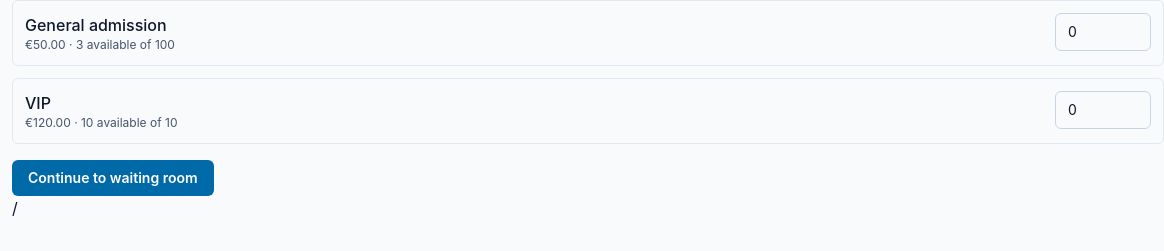
Test case: ticket selection validation › refuses a blank quantity
Clear the number field labelled "General admission": (1103, 32) [1055, 13, 1151, 51]
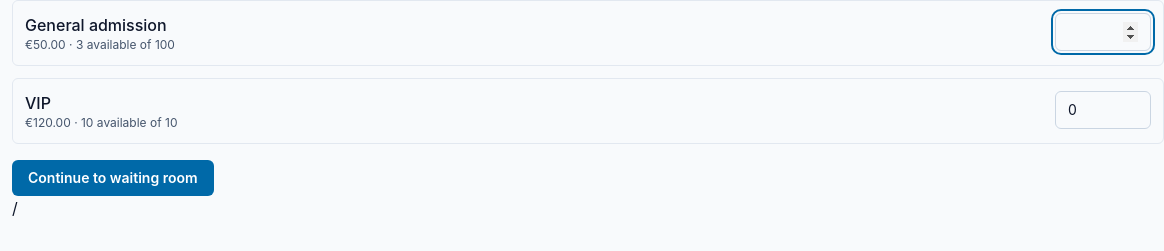
Click the button "Continue to waiting room": (113, 178) [12, 160, 214, 196]
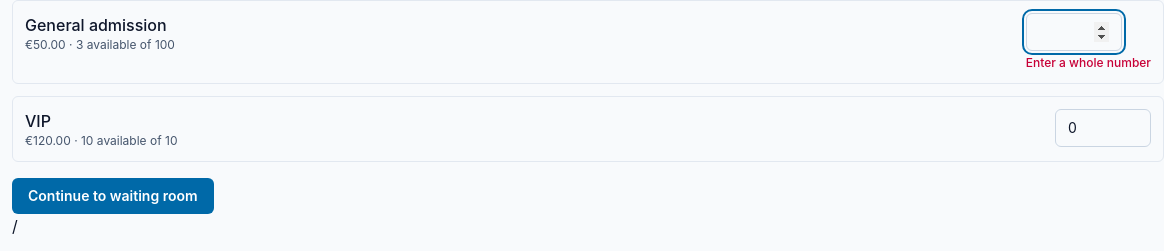
Expected: the text "Enter a whole number" is shown, [1026, 55, 1151, 71]
